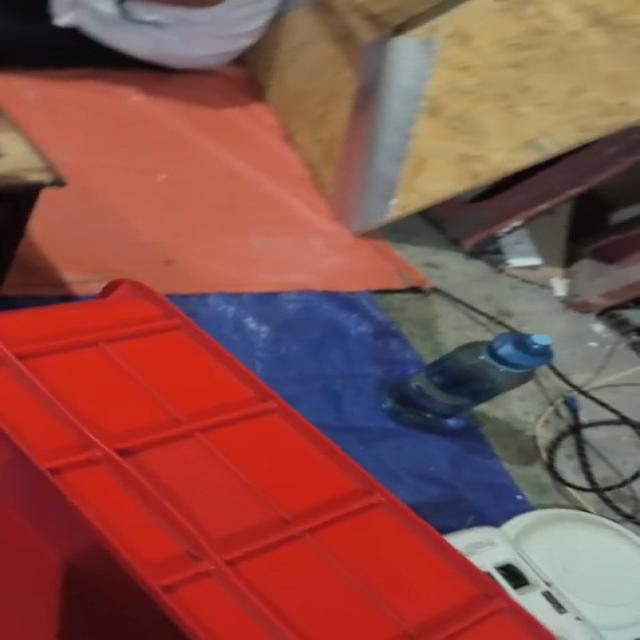red plastic box: (0, 278, 558, 639)
